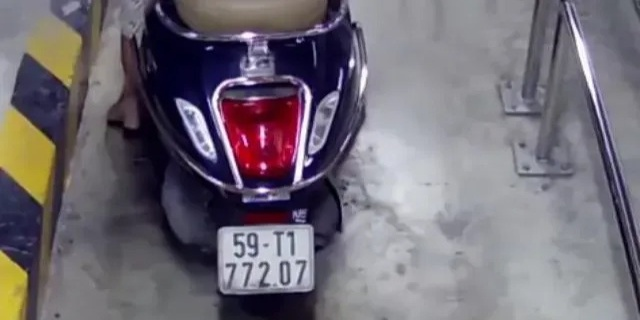bien_so: (218, 226, 315, 293)
